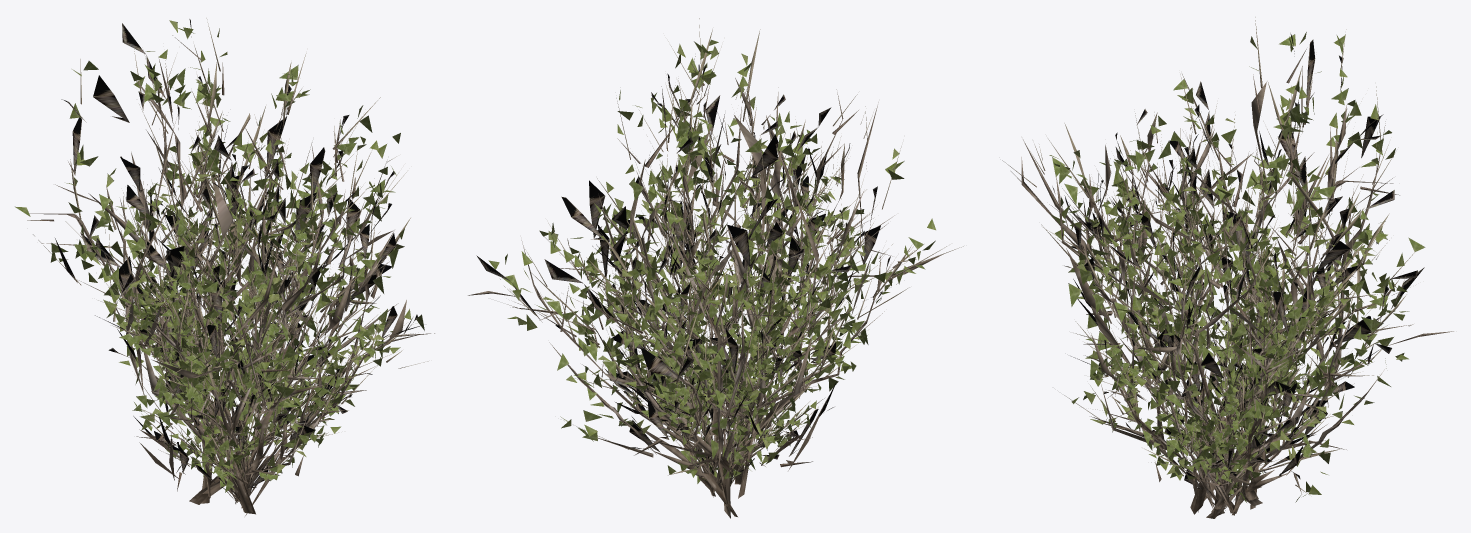
Rendered from searsia_lucida.glb.
3 renders of one model, left to right at view 1: azimuth 30°, elevation 25°; view 2: azimuth 150°, elevation 25°; view 3: azimuth 270°, elevation 25°, orthographic. The views are drawn at different scales.
Parts seen in each view (by area): view 1: searsia_lucida_a_LOD0, searsia_lucida_a_LOD0.001; view 2: searsia_lucida_a_LOD0, searsia_lucida_a_LOD0.001; view 3: searsia_lucida_a_LOD0, searsia_lucida_a_LOD0.001.
Boxes of the visible parts, x1,y1,x2,y2 form: searsia_lucida_a_LOD0: (15,19,424,502); searsia_lucida_a_LOD0.001: (27,18,434,515); searsia_lucida_a_LOD0: (476,39,935,485); searsia_lucida_a_LOD0.001: (468,18,963,518); searsia_lucida_a_LOD0: (1049,32,1425,510); searsia_lucida_a_LOD0.001: (1002,17,1453,518).
Size of the model in its own units: 1.81 by 2.38 by 2.
2 materials, 2 textured.
